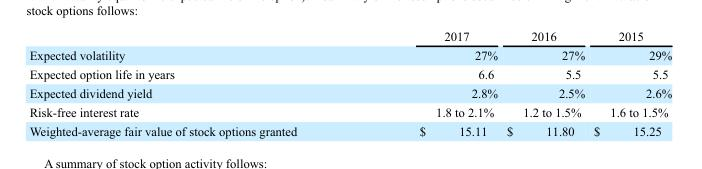table: (28, 28, 671, 137)
table column: (28, 28, 357, 137), (357, 28, 501, 137), (501, 28, 588, 137), (588, 28, 671, 137)
table column header: (28, 28, 671, 45)
table row: (28, 45, 671, 64), (28, 64, 671, 83), (28, 83, 671, 102), (28, 102, 671, 121), (28, 28, 671, 45), (28, 121, 671, 137)
